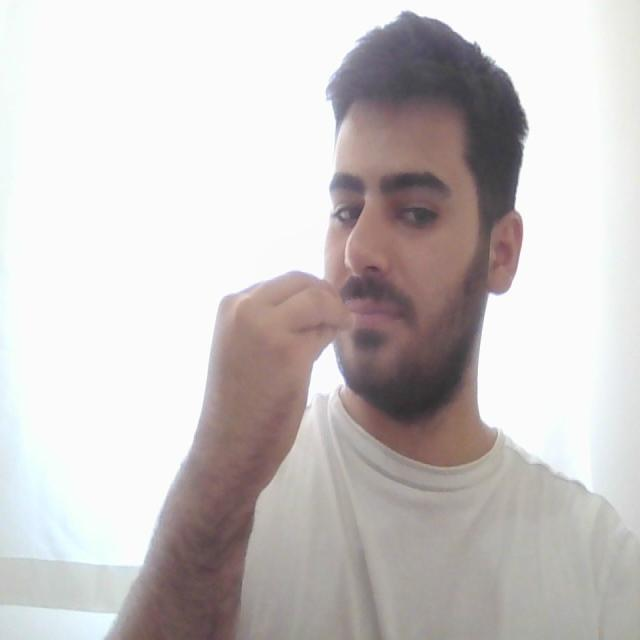Yemek: (203, 267, 407, 351)
